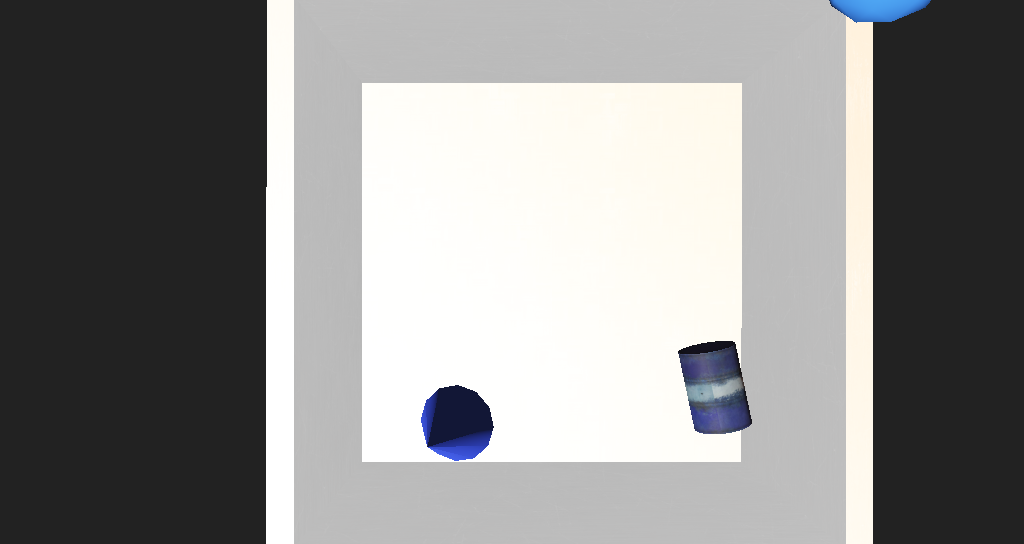cone: (600, 308, 667, 360)
cylinder: (374, 329, 461, 387)
sphere: (687, 84, 768, 146)
